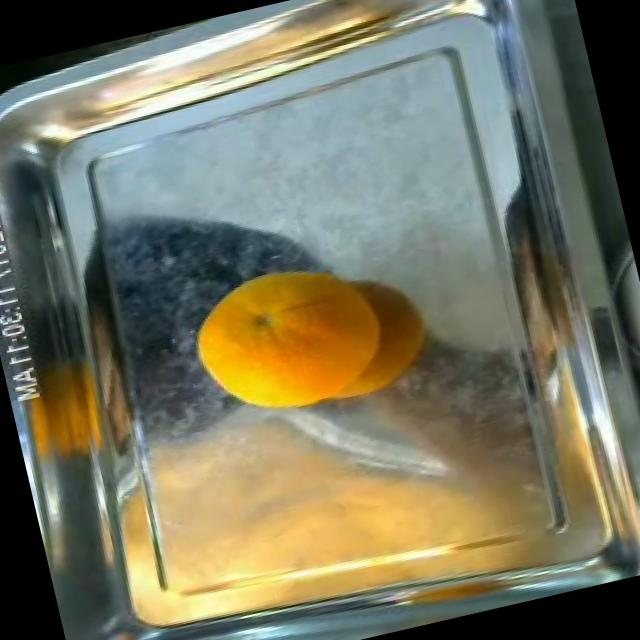Fruit: (163, 234, 392, 434)
